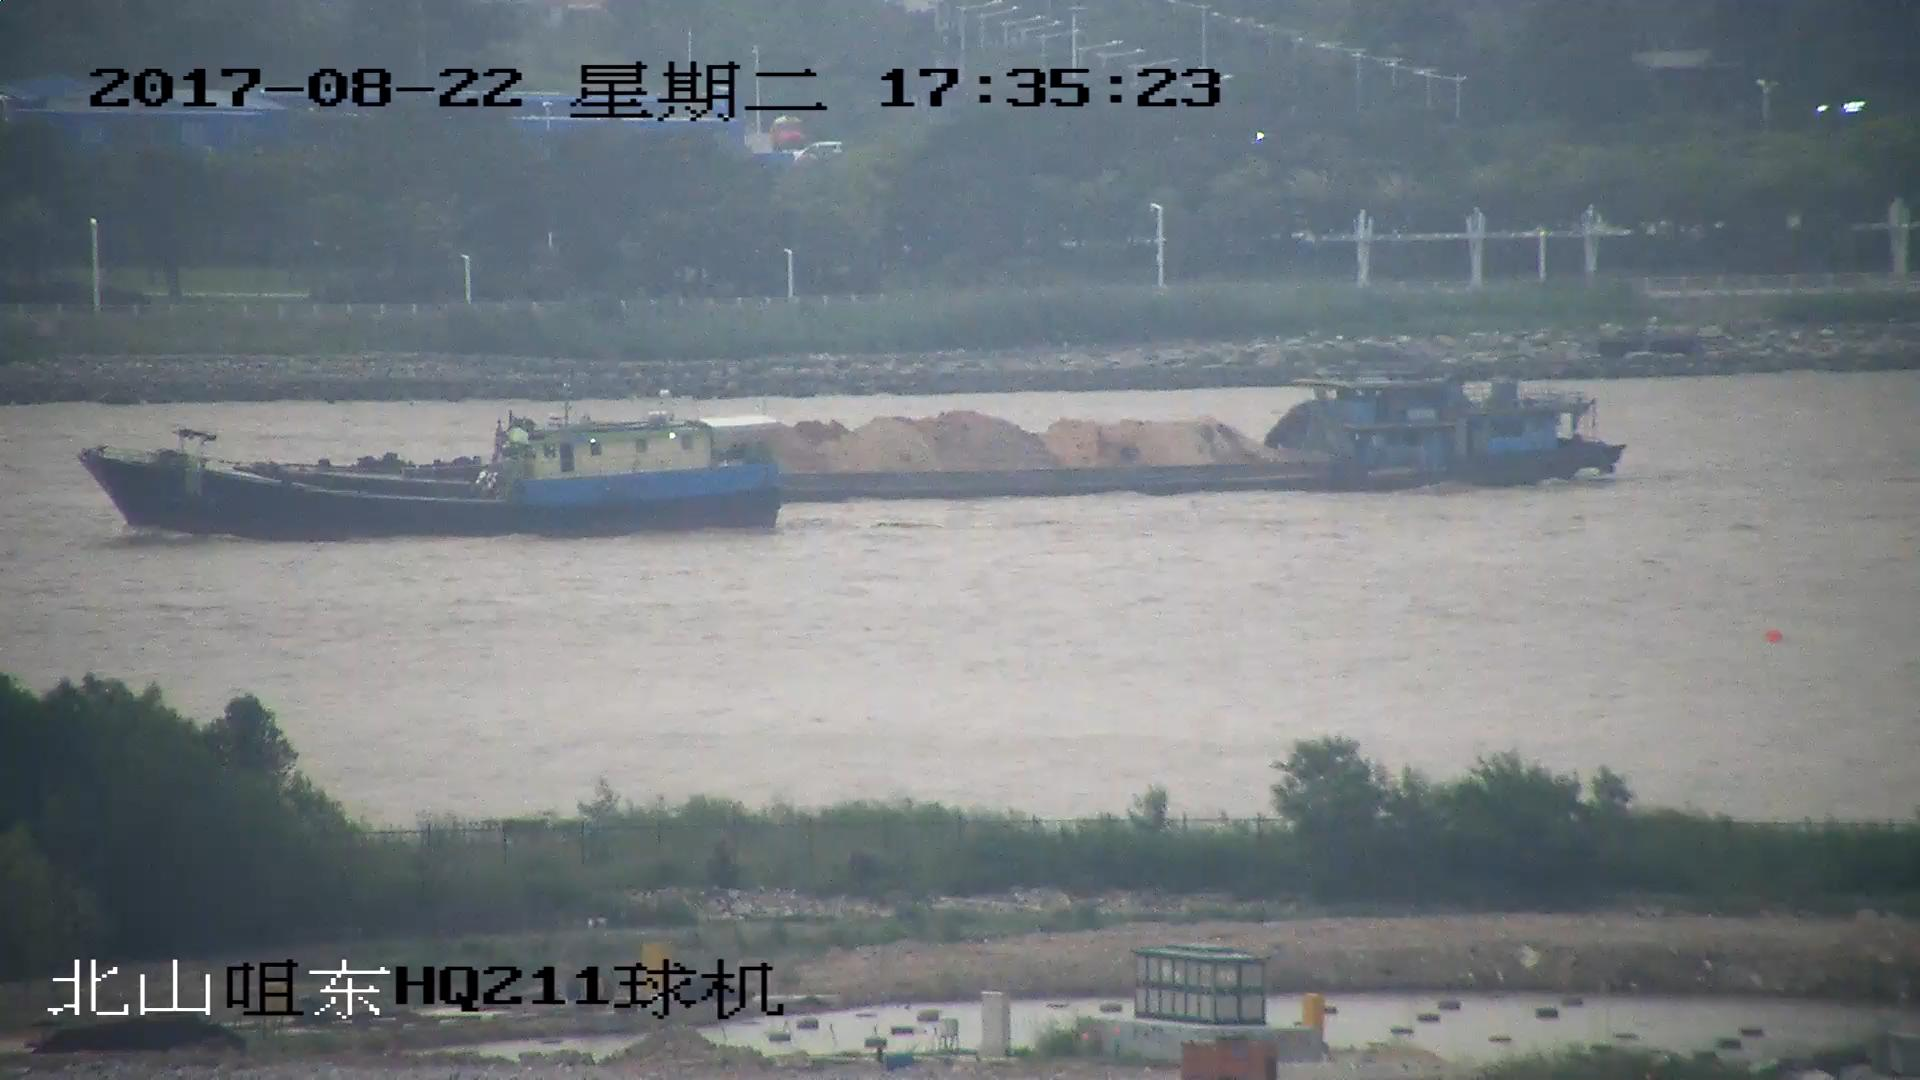fishing boat: (80, 403, 785, 537)
ore carrier: (114, 371, 1623, 497)
